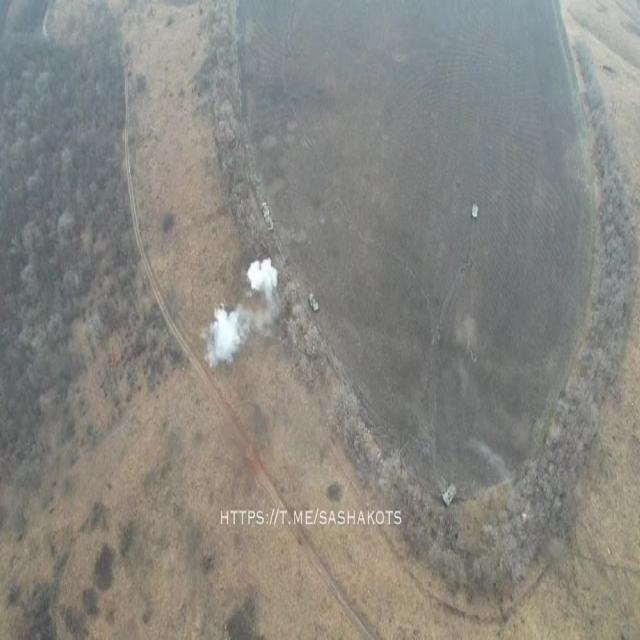apc: (261, 202, 274, 231), (442, 483, 457, 507), (308, 293, 320, 312), (472, 204, 478, 218)
